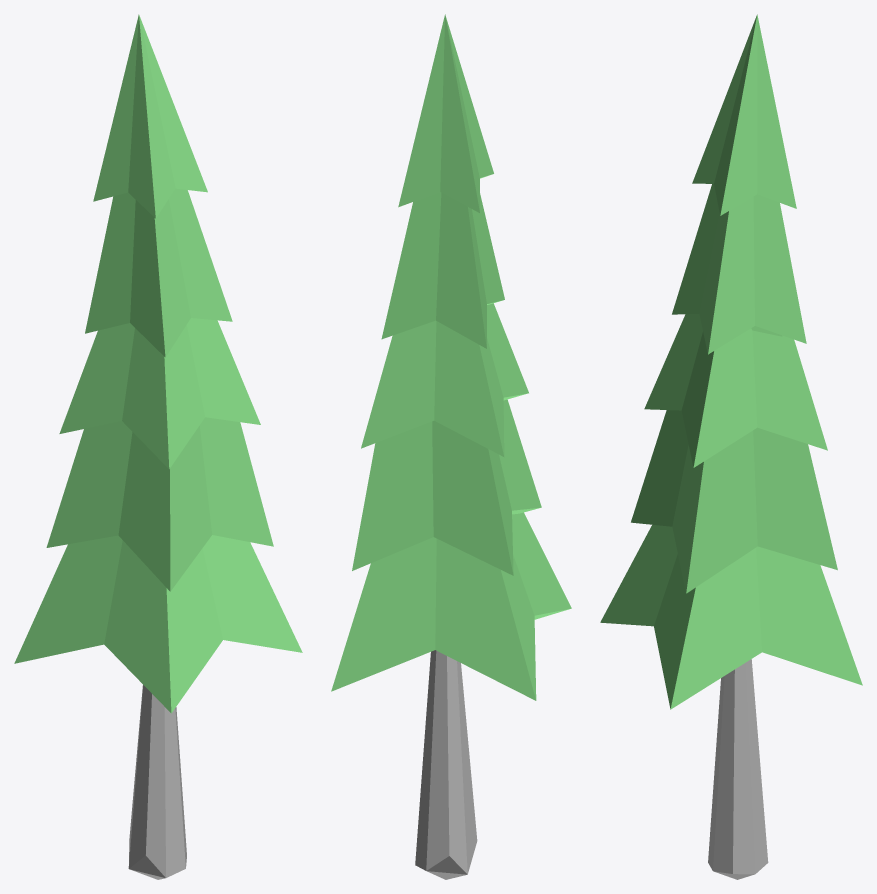
Rendered from tree1.obj.
The picture shows the model from 3 angles, left to right: view 1: azimuth 30°, elevation 25°; view 2: azimuth 150°, elevation 25°; view 3: azimuth 270°, elevation 25°; orthographic projection.
Visible parts, largest first — view 1: Cone.003, Cube.002; view 2: Cone.003, Cube.002; view 3: Cone.003, Cube.002.
Boxes of the visible parts, <box> form: Cone.003: <box>14,14,302,713</box>; Cube.002: <box>128,685,186,879</box>; Cone.003: <box>331,14,571,700</box>; Cube.002: <box>415,650,477,879</box>; Cone.003: <box>600,14,862,709</box>; Cube.002: <box>708,659,768,879</box>.
Bounding box in the file's own units: 0.0736 × 0.2658 × 0.0735.
